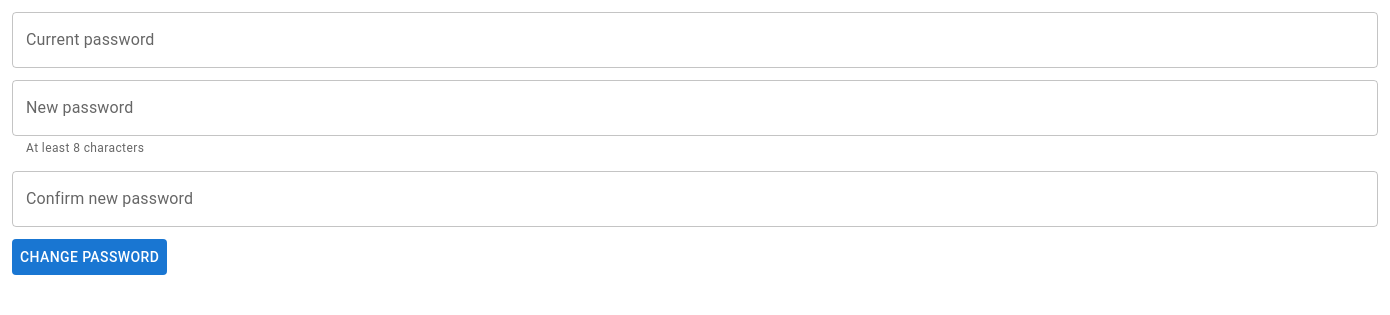
Test case: PasswordForm (integration) › shows a mismatch error and disables submit when passwords differ
In the password field labelled "Current password": (695, 40) [12,12,1378,68], type "oldpass123"
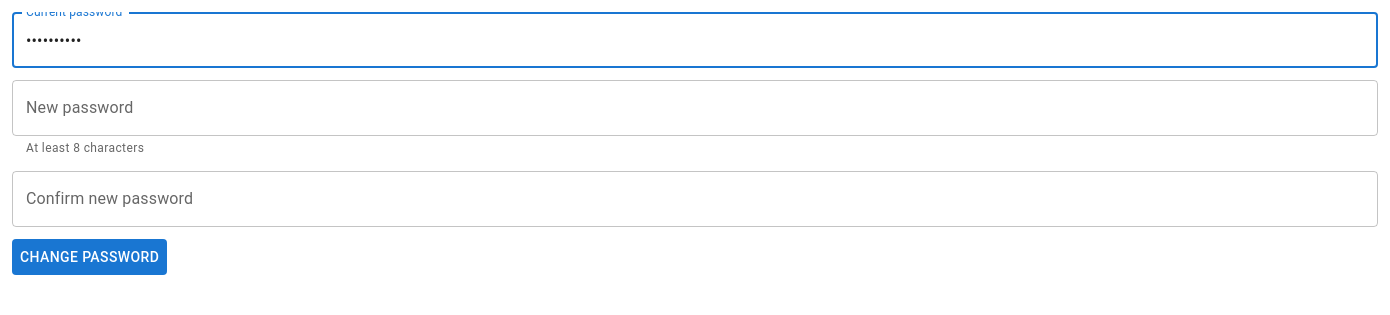
In the password field labelled "New password": (695, 108) [12,80,1378,136], type "newpass123"
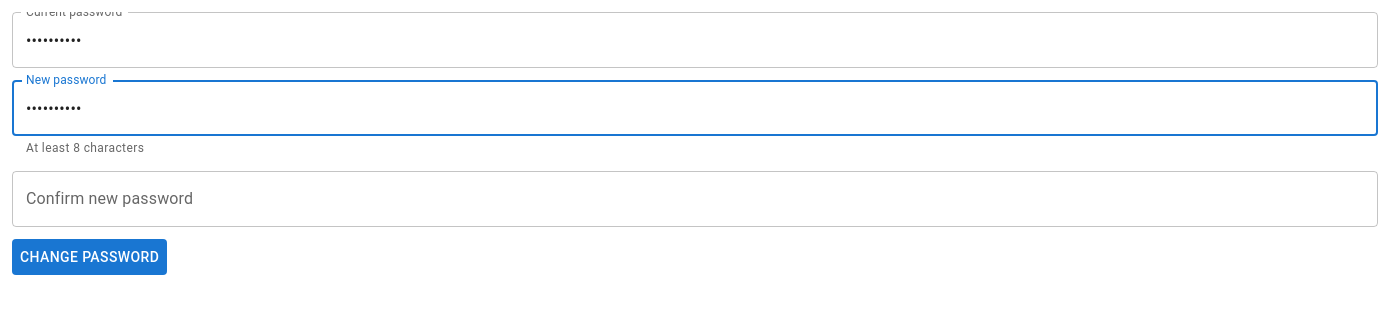
In the password field labelled "Confirm new password": (695, 199) [12,171,1378,227], type "different"
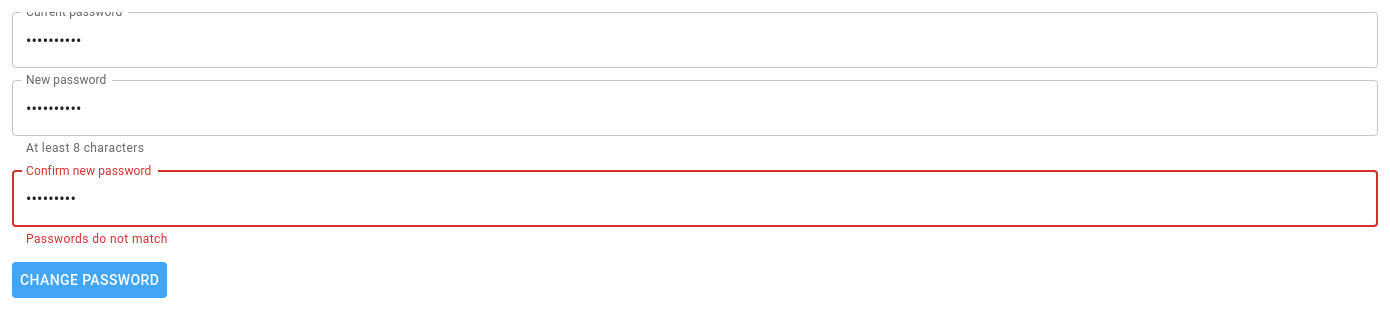
Now the text "Passwords do not match" is shown, box [26,232,168,246]
Now the button "Change password" is disabled, box [12,262,167,298]
